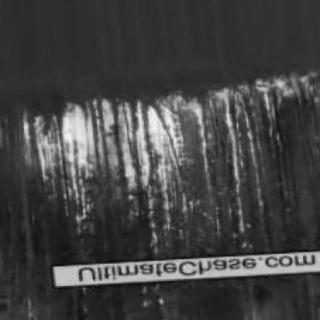Fire: (20, 80, 309, 247)
